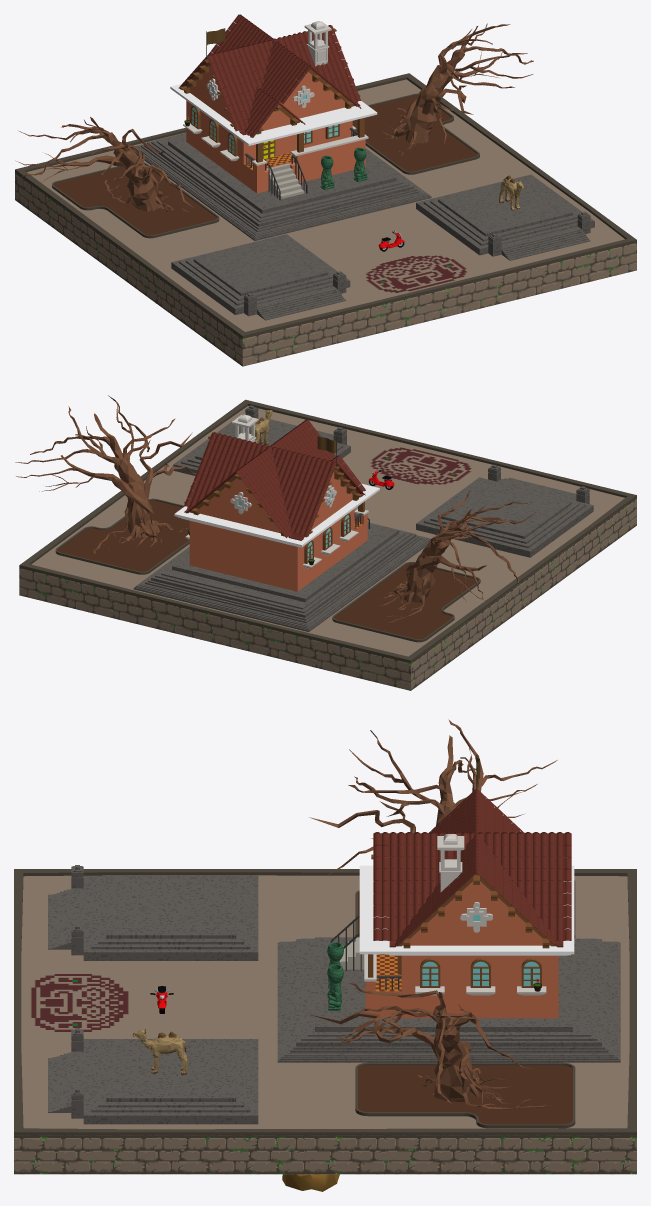
3 renders of one model, top to bottom at view 1: azimuth 30°, elevation 25°; view 2: azimuth 150°, elevation 25°; view 3: azimuth 270°, elevation 25°, orthographic. The views are drawn at different scales.
Visible parts, largest first — view 1: Cube.011, Cube.1141, ANIMAL_CAMELLO; view 2: Cube.011, Cube.1141; view 3: Cube.011, Cube.1141, ANIMAL_CAMELLO, UNDERGROUND_T_REX_BONES.
Boxes of the visible parts, x1,y1,x2,y2 form: Cube.011: (15,23,636,366); Cube.1141: (170,14,377,200); ANIMAL_CAMELLO: (499,175,523,210); Cube.011: (15,395,636,690); Cube.1141: (174,414,379,591); Cube.011: (14,719,636,1174); Cube.1141: (330,755,574,1018); ANIMAL_CAMELLO: (132,1028,187,1075); UNDERGROUND_T_REX_BONES: (282,1174,339,1191).
Bounding box in the file's own units: 5099 × 1927 × 4000.
Materials: 37 (5 with a texture image).
